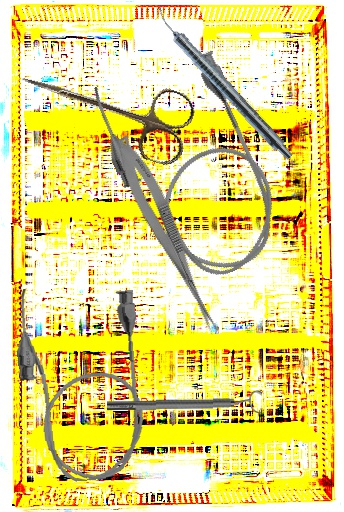Cannula: (80, 35, 301, 299), (10, 277, 153, 487)
Fixation Ring: (106, 389, 263, 418)
Handpiece: (148, 4, 299, 163)
Iris Scissors: (10, 47, 199, 169)
Micro Scissor: (106, 132, 231, 338)
